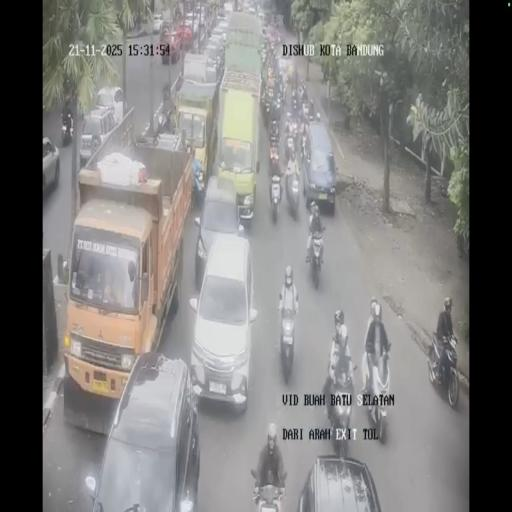3: (63, 134, 192, 414), (172, 64, 220, 195)
car: (194, 174, 243, 284), (302, 122, 336, 212), (78, 109, 118, 167), (42, 136, 60, 195), (203, 42, 224, 80), (160, 29, 182, 64), (277, 56, 292, 82), (215, 17, 230, 43), (184, 12, 196, 36), (161, 8, 172, 32), (152, 14, 163, 34), (194, 2, 206, 19), (216, 4, 226, 18), (245, 4, 256, 15), (258, 8, 266, 21)
truck: (362, 345, 392, 443), (324, 366, 356, 457), (428, 330, 460, 409), (277, 301, 299, 380), (306, 232, 326, 289), (285, 163, 301, 217), (268, 172, 283, 222), (190, 164, 204, 210), (61, 110, 74, 144), (268, 144, 280, 176), (261, 87, 272, 121), (271, 92, 283, 123), (300, 127, 310, 161), (284, 135, 296, 162), (304, 94, 316, 120), (291, 90, 299, 114)
